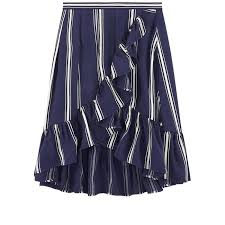C_skirt: (31, 1, 199, 198)
